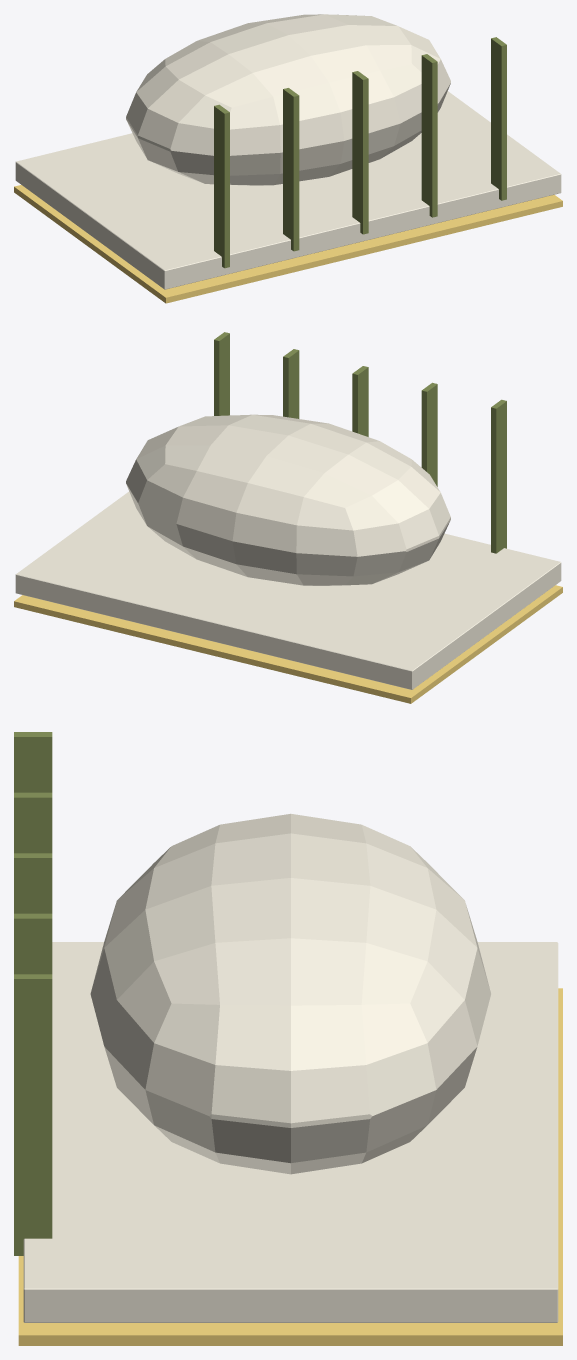
The model's file is tunic_skirt_cream.glb.
The picture shows the model from 3 angles, top to bottom: view 1: azimuth 30°, elevation 25°; view 2: azimuth 150°, elevation 25°; view 3: azimuth 270°, elevation 25°; orthographic projection. The views are drawn at different scales.
Parts seen in each view (by area): view 1: TunicSkirt; view 2: TunicSkirt; view 3: TunicSkirt.
Part boxes in pixels (x1,y1,x2,y2): TunicSkirt: (14, 14, 562, 303); TunicSkirt: (14, 332, 562, 703); TunicSkirt: (14, 732, 562, 1345).
Size of the model in its own units: 0.86 by 0.366 by 0.575.
